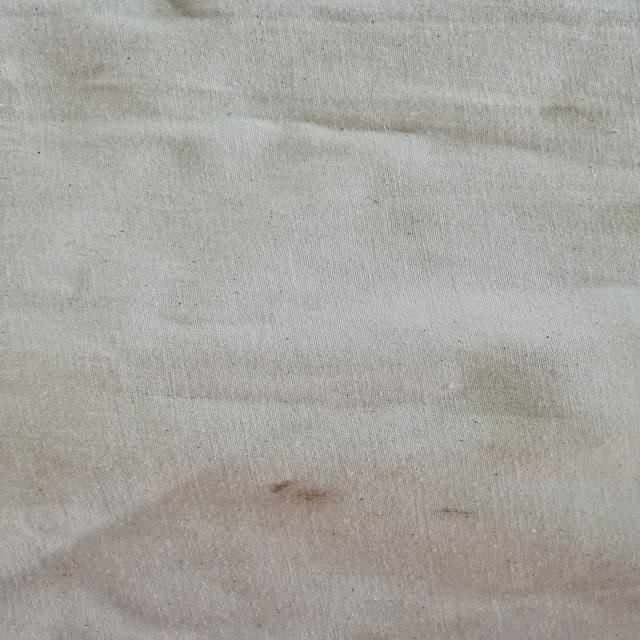taaaches: (217, 462, 336, 522), (137, 0, 256, 37), (418, 491, 502, 535), (520, 93, 584, 132)
